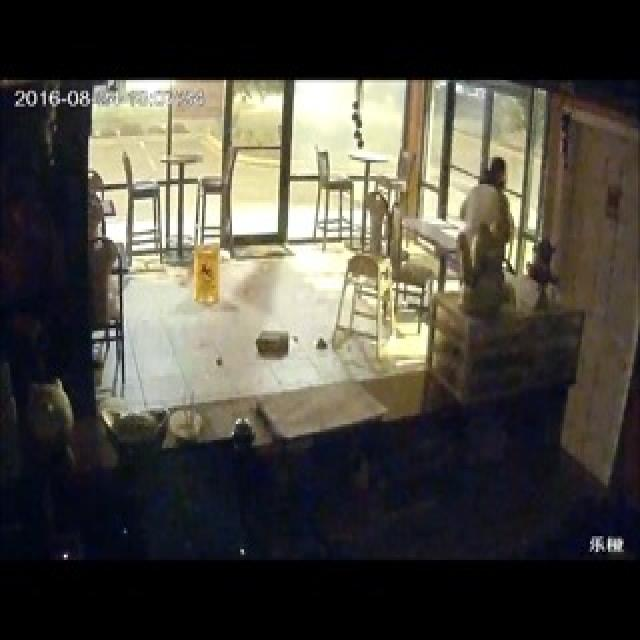thief: (448, 142, 509, 263)
